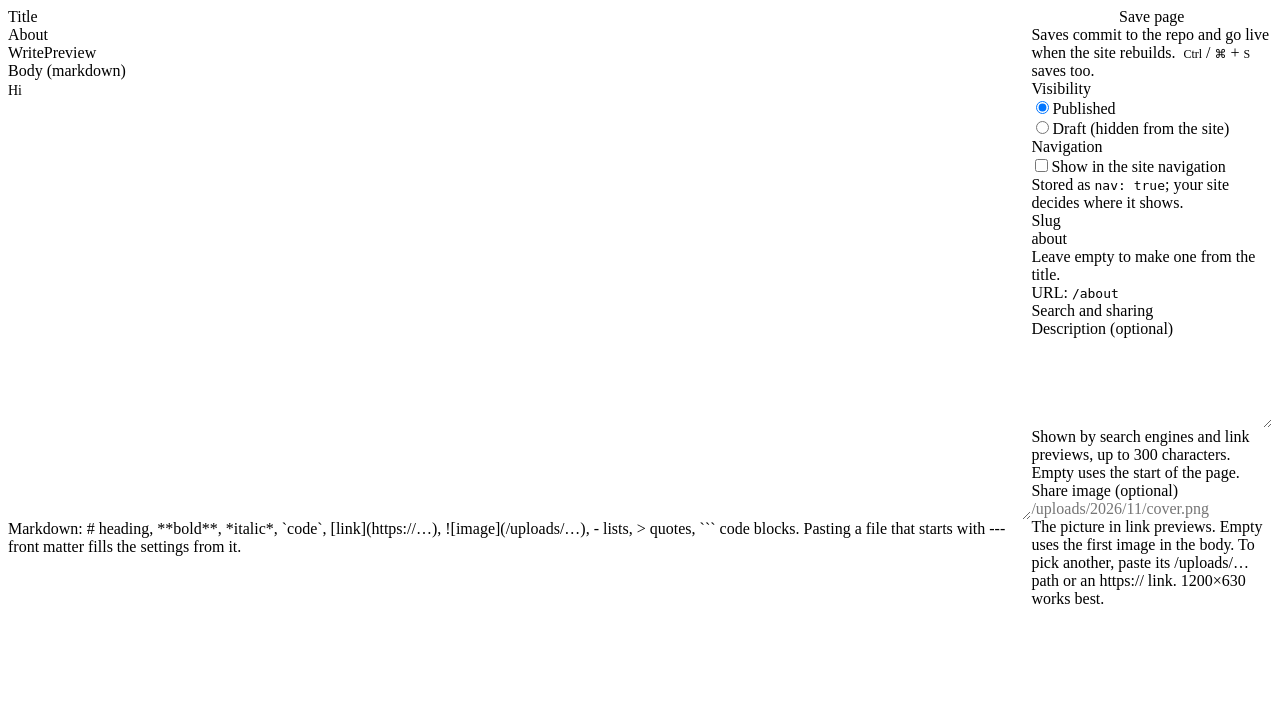
the save button says whether a save publishes › a published page saves as itself; switching it to Draft says so
Check: the button "Save page" is shown, box [1031,8,1272,26]
What coordinates should you click on to do the following:
click the radio button labelled "Draft (hidden from the site)"
I would click on:
 (1043, 128)
Its box is [1036,121,1049,134].
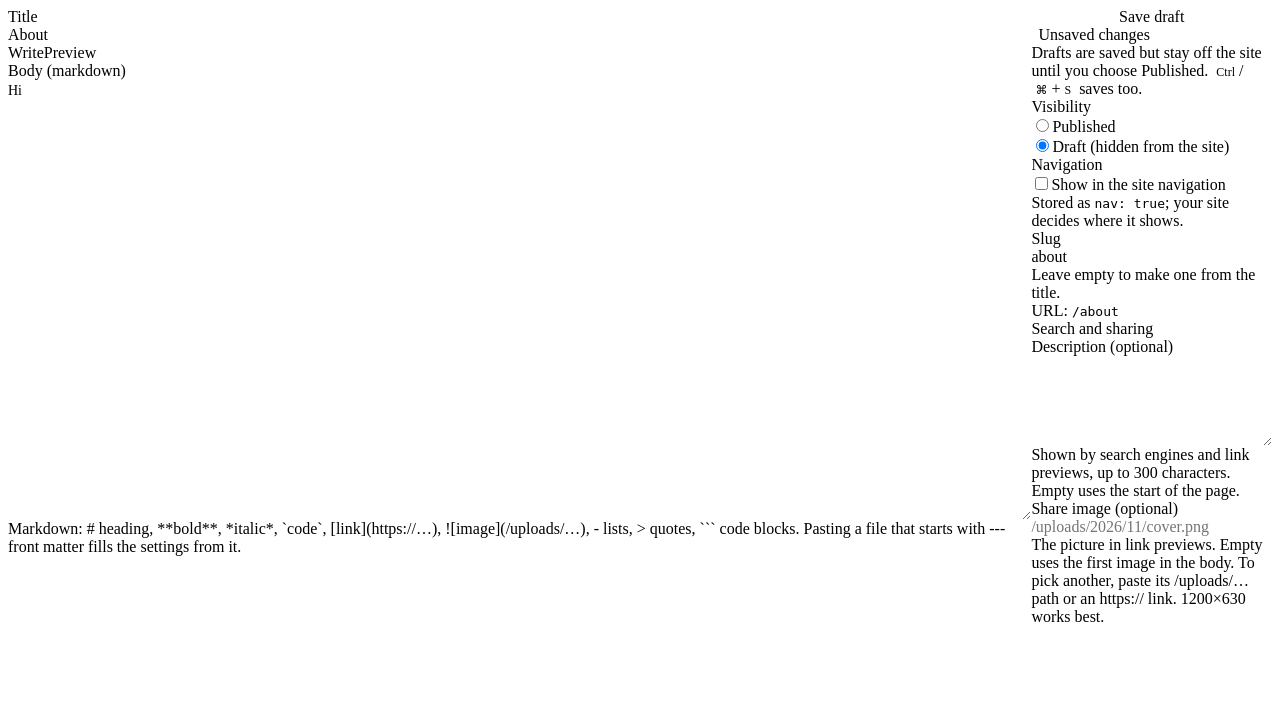
Check: the button "Save draft" is shown, box [1031,8,1272,26]
